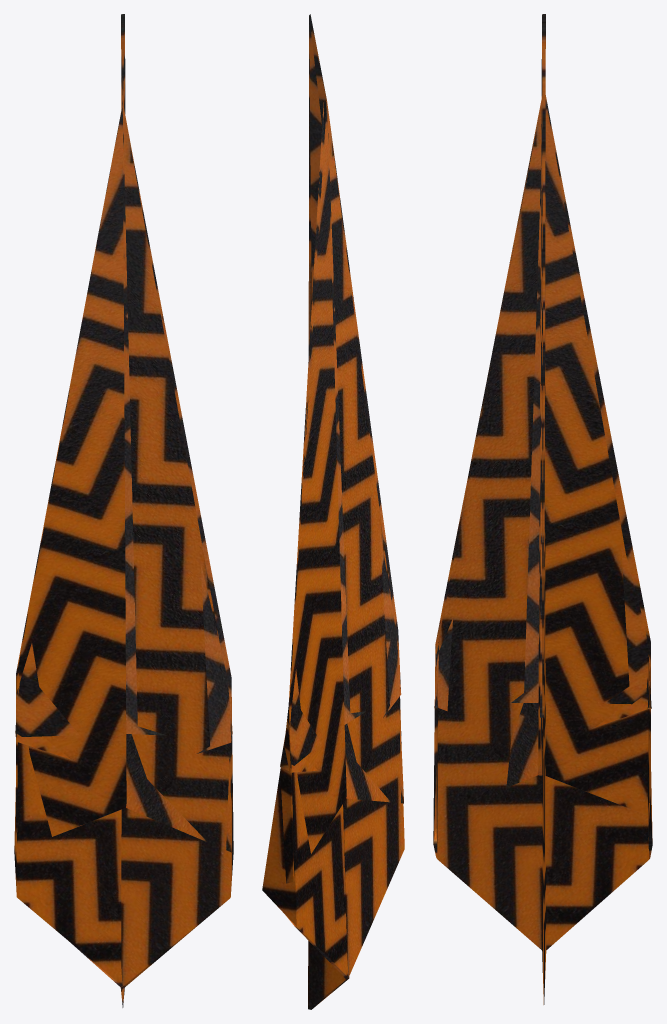
3 views of the same model, side by side, from view 1: azimuth 90°, elevation 25°; view 2: azimuth 150°, elevation 25°; view 3: azimuth 270°, elevation 25° (orthographic).
Parts seen in each view (by area): view 1: Origami_Model_64.001; view 2: Origami_Model_64.001; view 3: Origami_Model_64.001.
Boxes of the visible parts, bbox=[...] form: Origami_Model_64.001: bbox=[14, 14, 233, 1007]; Origami_Model_64.001: bbox=[262, 14, 404, 1009]; Origami_Model_64.001: bbox=[433, 14, 652, 1004].
Size of the model in its own units: 0.0127 by 0.2828 by 0.0565.
1 material, 1 textured.
